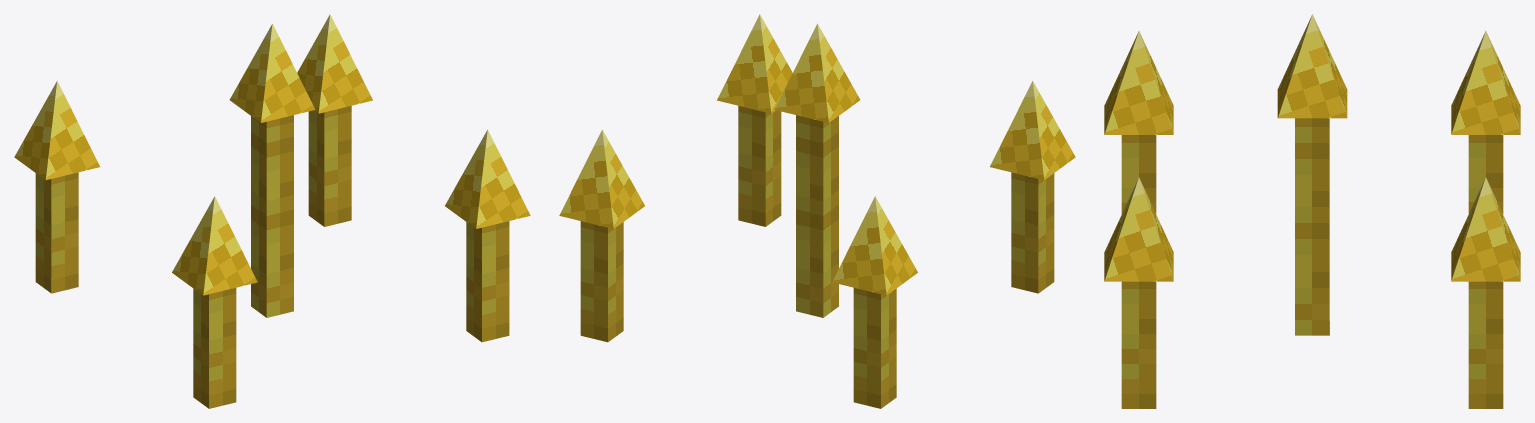
The model's file is Spikes_Gold.glb.
3 renders of one model, left to right at view 1: azimuth 30°, elevation 25°; view 2: azimuth 150°, elevation 25°; view 3: azimuth 270°, elevation 25°, orthographic. The views are drawn at different scales.
Visible parts, largest first — view 1: spike; view 2: spike; view 3: spike.
Part boxes in pixels (x1,y1,x2,y2): spike: (14,14,530,408); spike: (559,14,1075,408); spike: (1104,14,1520,408).
Bounding box in the file's own units: 0.75 × 0.625 × 0.75.
1 material, 1 textured.
